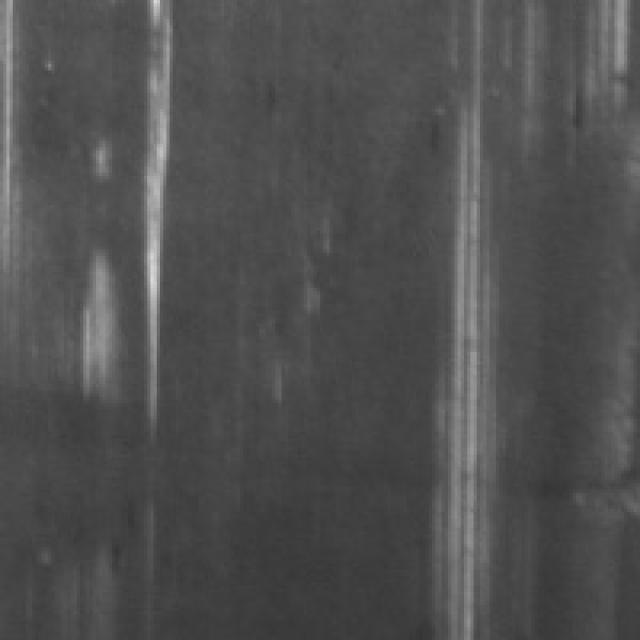scratches: (416, 83, 509, 637), (125, 0, 179, 435)
